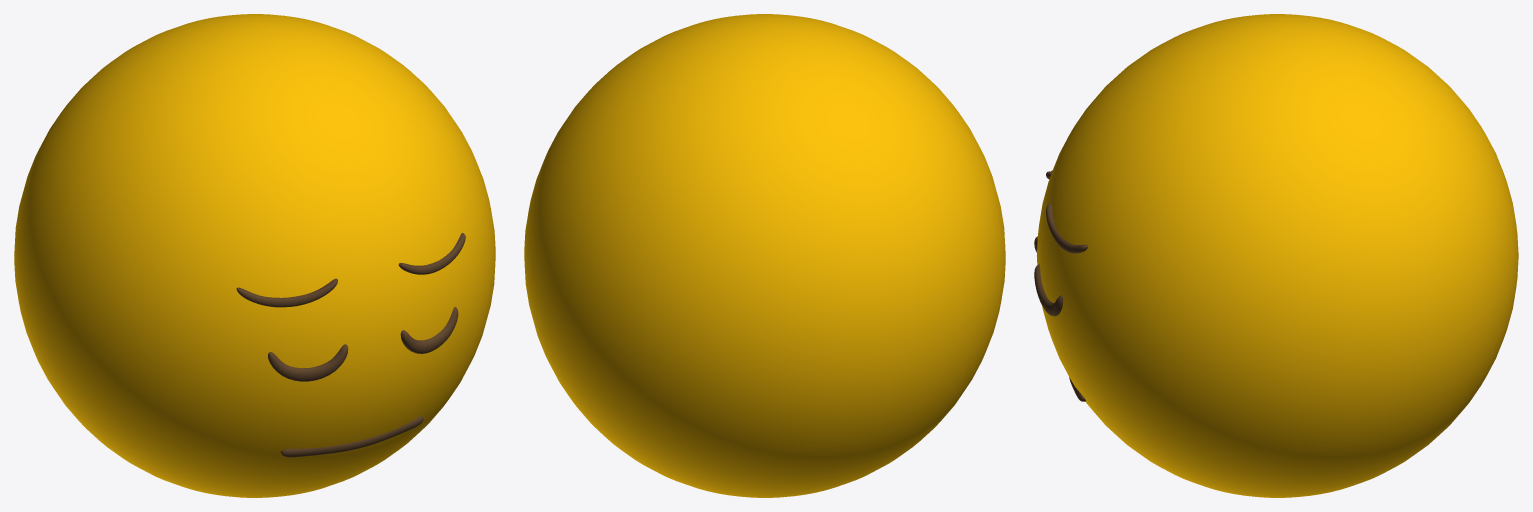
Rendered from disappointed_face_emoticon_emoji_or_smiley.glb.
The picture shows the model from 3 angles, left to right: view 1: azimuth 30°, elevation 25°; view 2: azimuth 150°, elevation 25°; view 3: azimuth 270°, elevation 25°; orthographic projection.
Visible parts, largest first — view 1: Emoticon 56; view 2: Emoticon 56; view 3: Emoticon 56.
Part boxes in pixels (bbox=[...]): Emoticon 56: bbox=[14, 14, 495, 497]; Emoticon 56: bbox=[524, 14, 1005, 497]; Emoticon 56: bbox=[1034, 14, 1518, 497].
Bounding box in the file's own units: 7.11 × 7.18 × 7.15.
1 material, 1 textured.
